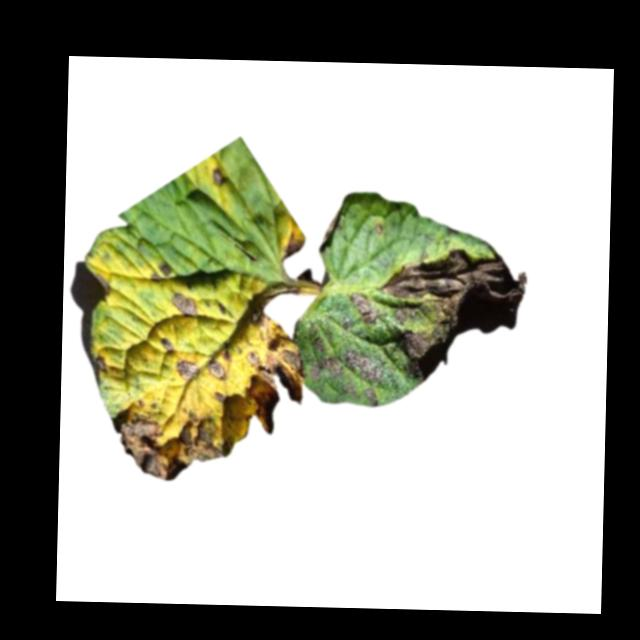Early_blight: (378, 246, 527, 383), (110, 405, 236, 481), (247, 326, 305, 437), (306, 336, 386, 406), (240, 277, 300, 329), (346, 290, 386, 327), (168, 290, 198, 318), (174, 355, 198, 381), (209, 353, 227, 379), (86, 352, 107, 374), (209, 168, 229, 187), (159, 334, 176, 353)
